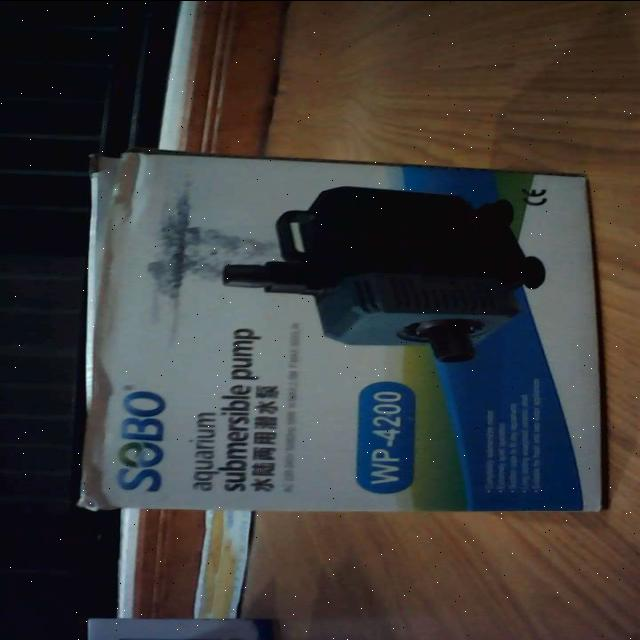SOBO_WP_4200: (52, 144, 610, 518)
